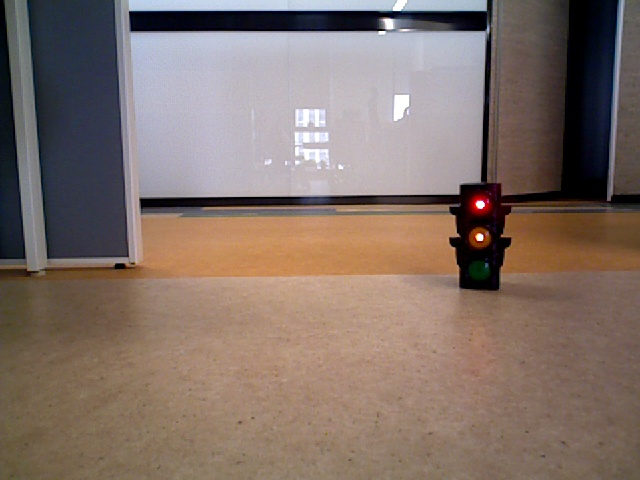red: (458, 188, 499, 288)
